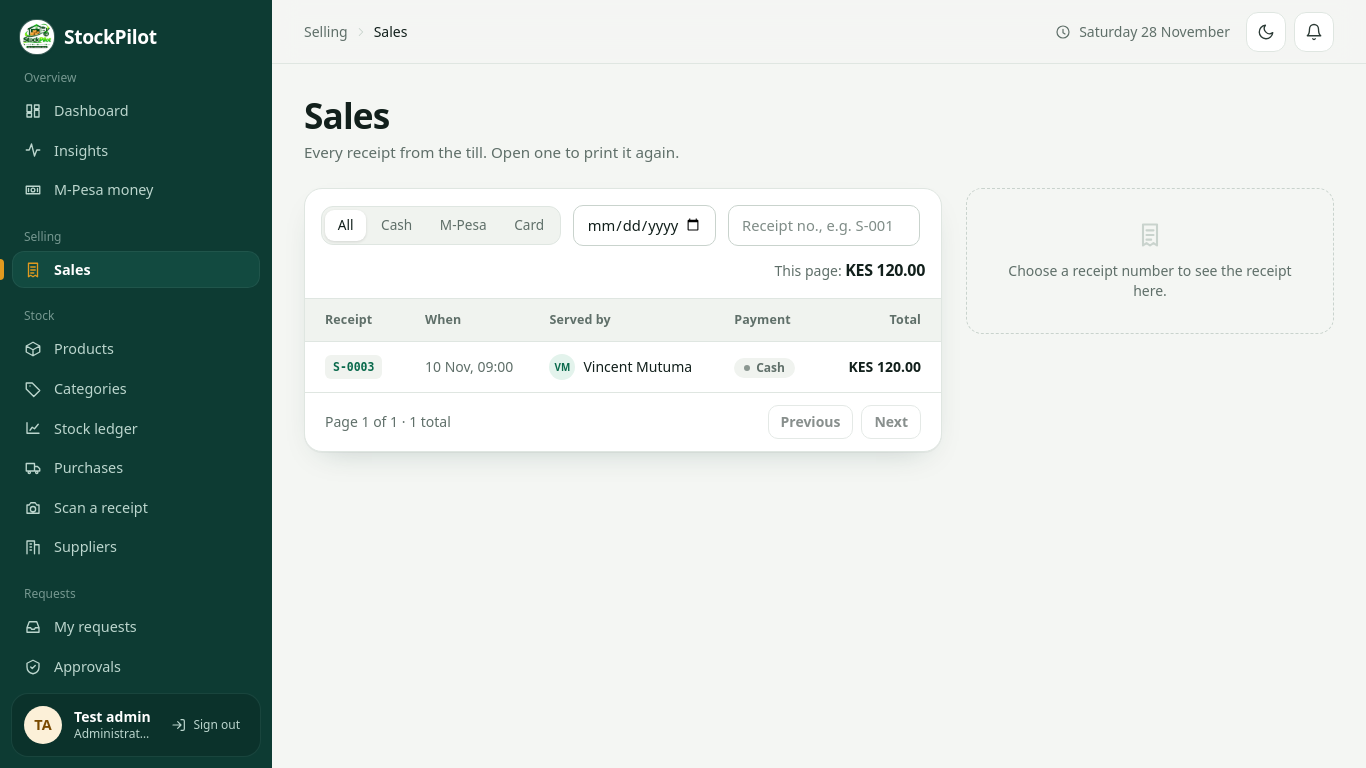
Test: sales history › opens a receipt
This screenshot has width=1366, height=768.
Click the button "S-0003": (354, 367) [325,355,382,379]
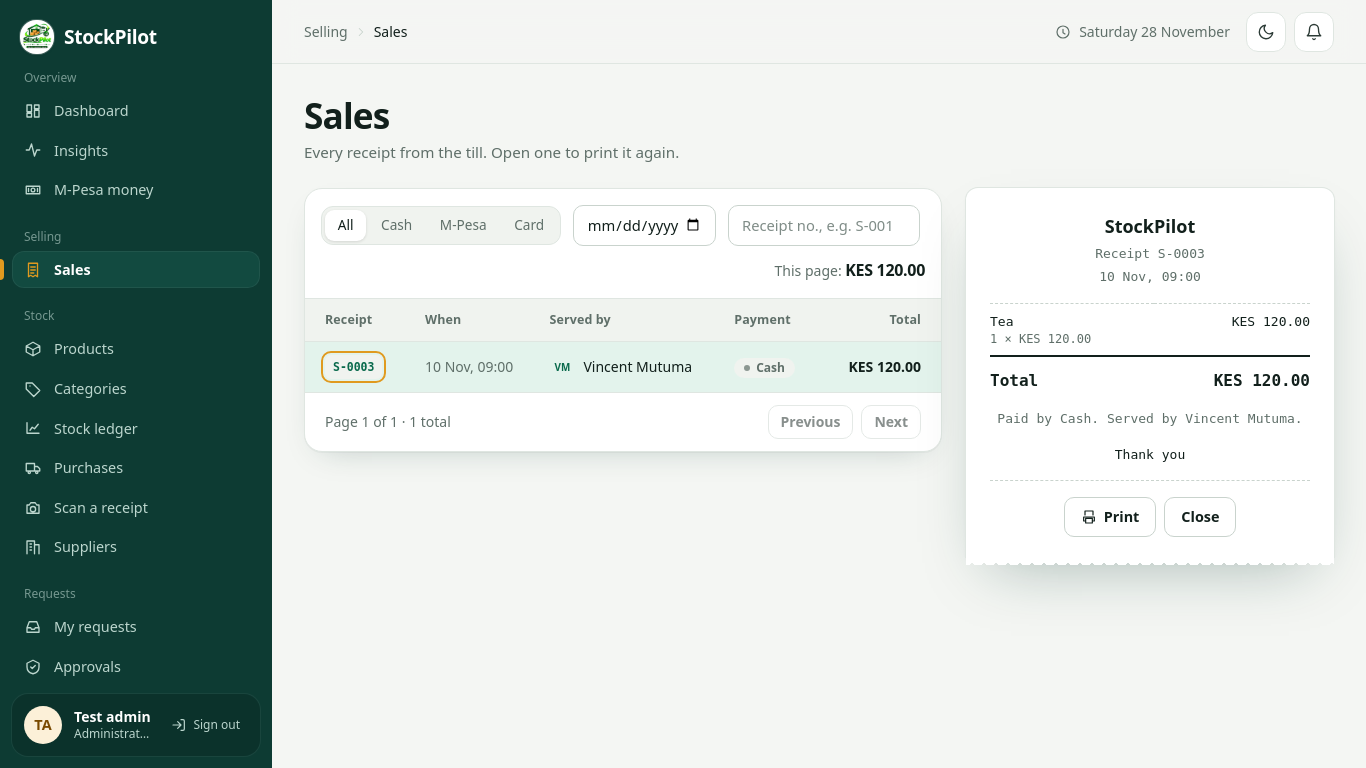
Expected: the text "Paid by Cash. Served by Vincent Mutuma." is shown, [990,409,1310,428]
Expected: the button "Print" is shown, [1064,497,1156,537]
